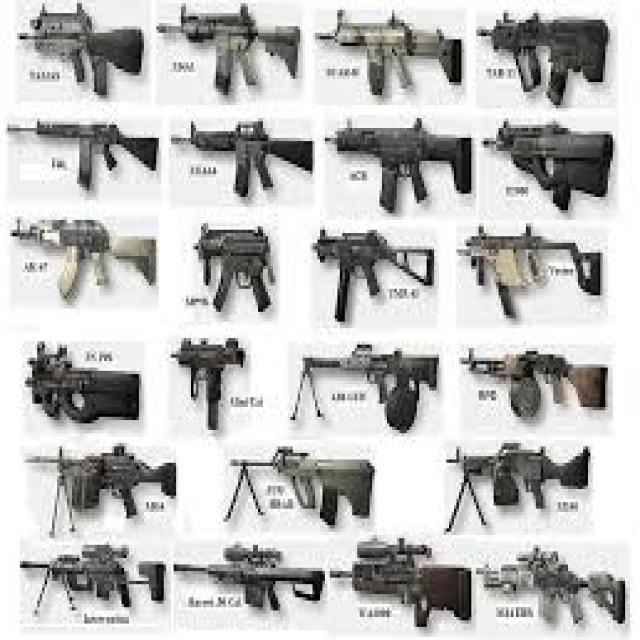Gun: (20, 338, 148, 427)
